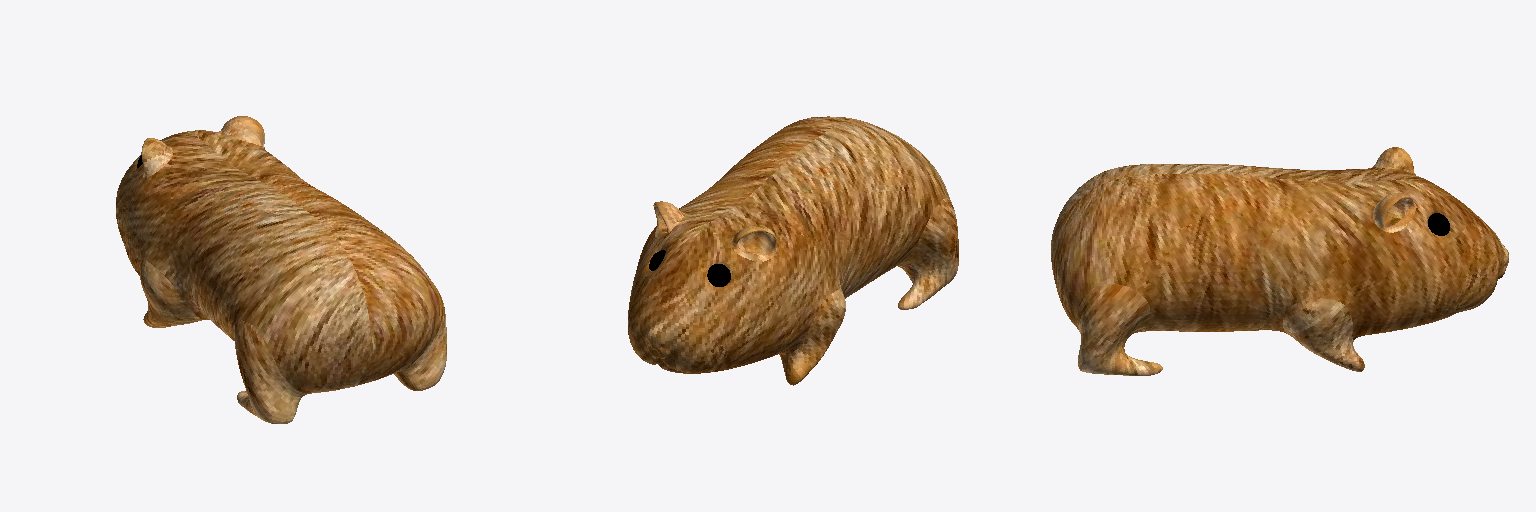
3 views of the same model, side by side, from view 1: azimuth 30°, elevation 25°; view 2: azimuth 150°, elevation 25°; view 3: azimuth 270°, elevation 25° (orthographic).
Visible parts, largest first — view 1: body; view 2: body; view 3: body.
Boxes of the visible parts, box(x1,y1,x2,y2) form: body: box(116, 116, 446, 423); body: box(628, 116, 958, 385); body: box(1051, 147, 1508, 375).
Size of the model in its own units: 0.8232 by 0.6562 by 1.62.
Materials: 2 (1 with a texture image).